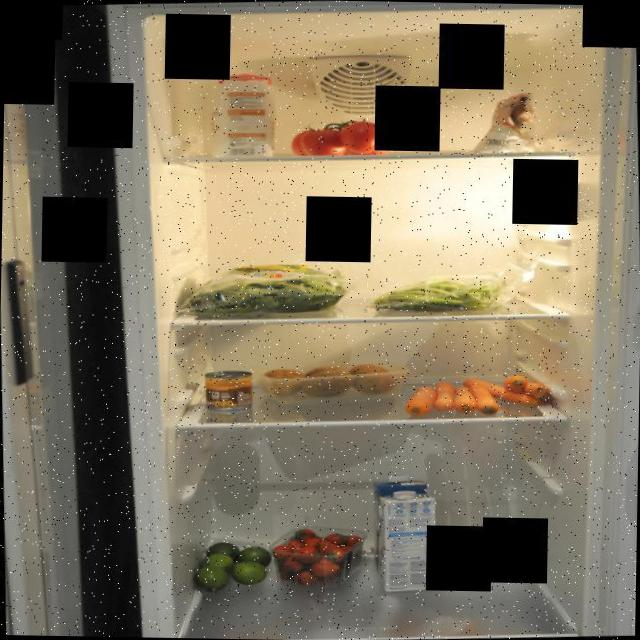Leche: (372, 469, 434, 582), (374, 489, 438, 592)
Patata: (249, 352, 406, 406)
Tomate: (286, 114, 396, 160)
Zanahoria: (398, 370, 555, 418)
